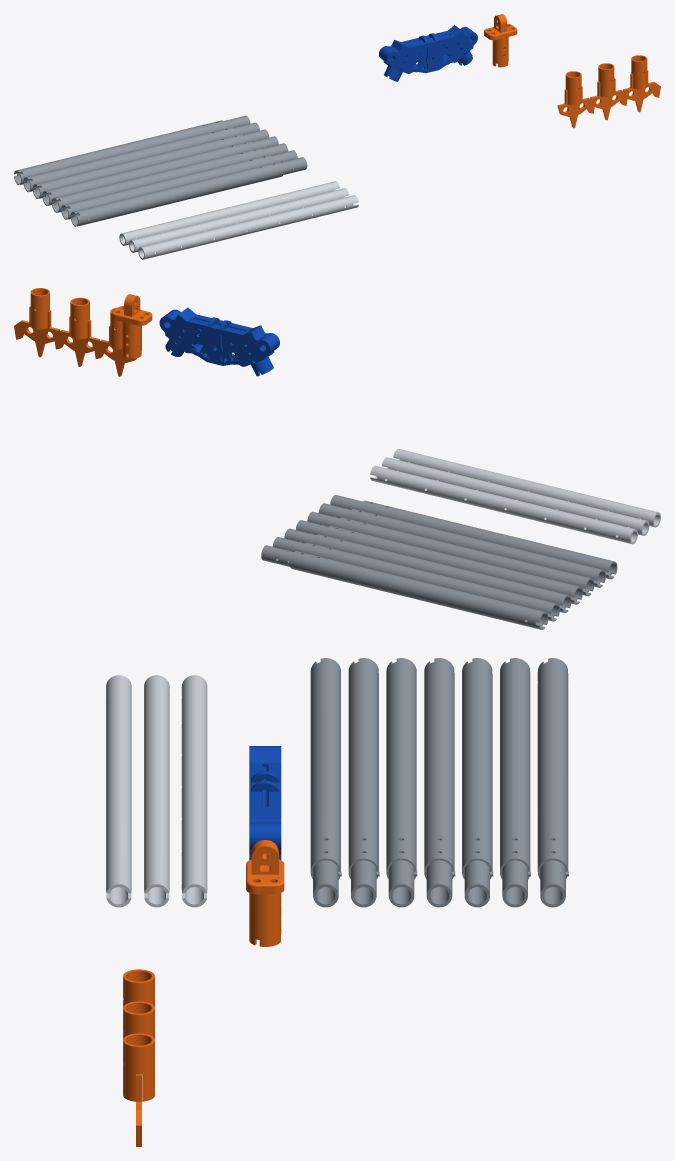
The model's file is 00_kit.glb.
3 renders of one model, top to bottom at view 1: azimuth 30°, elevation 25°; view 2: azimuth 150°, elevation 25°; view 3: azimuth 270°, elevation 25°, orthographic. The views are drawn at different scales.
Parts seen in each view (by area): view 1: pe0, aframe, pi2, pe3, pe6, pe1, pe4, pe5, pe2, pi1, pi0, ra0 (+3 smaller); view 2: pe6, aframe, pi0, pe0, pe1, pe3, pe2, pe4, pe5, pi1, pi2, ra1 (+3 smaller); view 3: pe6, pe2, pe3, pe1, pe0, pe4, pe5, pi0, pi1, pi2, gin, aframe (+3 smaller).
Boxes of the visible parts, box(x1,y1,x2,y2) form: pe0: box(70, 157, 307, 226); aframe: box(379, 25, 477, 81); pi2: box(138, 195, 358, 259); pe3: box(42, 136, 278, 205); pe6: box(14, 115, 250, 185); pe1: box(61, 150, 297, 219); pe4: box(33, 129, 269, 198); pe5: box(23, 122, 259, 192); pe2: box(52, 143, 288, 212); pi1: box(129, 188, 349, 252); pi0: box(119, 181, 339, 245); ra0: box(557, 71, 595, 128); pe6: box(261, 545, 548, 629); aframe: box(159, 307, 279, 376); pi0: box(370, 465, 637, 544); pe0: box(330, 495, 617, 579); pe1: box(318, 503, 605, 587); pe3: box(295, 520, 582, 604); pe2: box(307, 511, 594, 596); pe4: box(284, 528, 571, 612); pe5: box(272, 537, 559, 621); pi1: box(381, 457, 649, 535); pi2: box(393, 449, 660, 527); ra1: box(54, 297, 99, 366); pe6: box(537, 658, 568, 907); pe2: box(386, 658, 417, 907); pe3: box(424, 658, 455, 907); pe1: box(348, 658, 379, 907); pe0: box(310, 658, 341, 907); pe4: box(462, 658, 493, 907); pe5: box(500, 658, 530, 907); pi0: box(181, 675, 207, 907); pi1: box(144, 675, 169, 907); pi2: box(106, 675, 131, 907); gin: box(246, 840, 284, 946); aframe: box(249, 746, 281, 859).
Size of the model in its own units: 2466 by 532 by 917.
